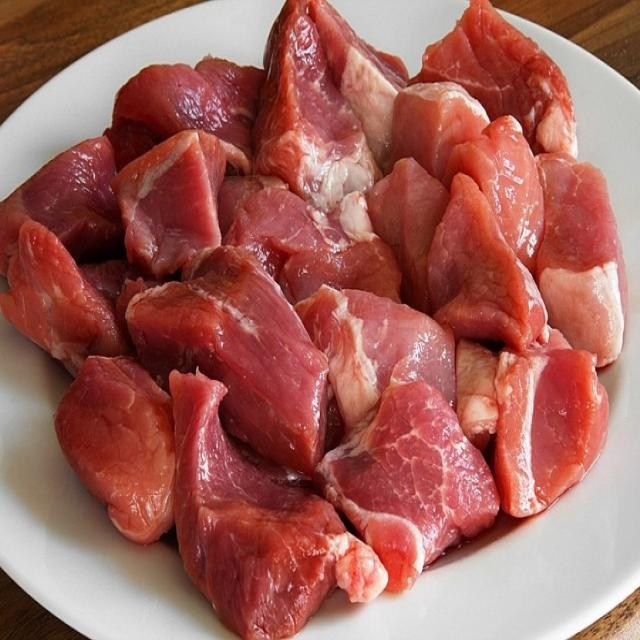beef: (106, 233, 367, 467), (155, 358, 358, 640), (331, 361, 497, 610), (38, 339, 220, 554), (90, 56, 268, 264), (254, 11, 375, 234), (493, 319, 617, 536), (418, 20, 599, 166), (414, 167, 534, 364), (9, 214, 130, 366)
